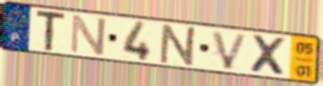4: (120, 19, 154, 63)
N: (157, 23, 201, 69), (68, 13, 109, 57)
T: (34, 10, 69, 53)
V: (210, 29, 251, 72)
X: (249, 32, 290, 78)
